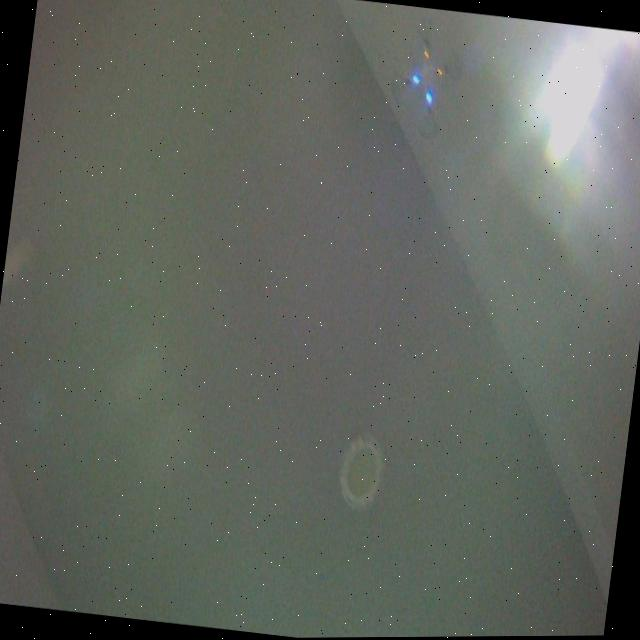drone: (383, 11, 468, 141)
